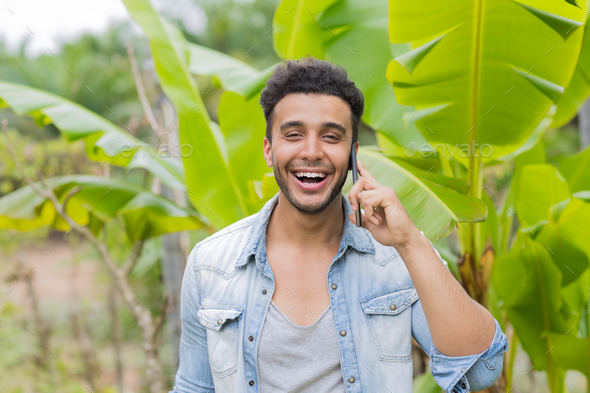phone: (337, 144, 378, 228)
talk: (270, 116, 413, 250)
